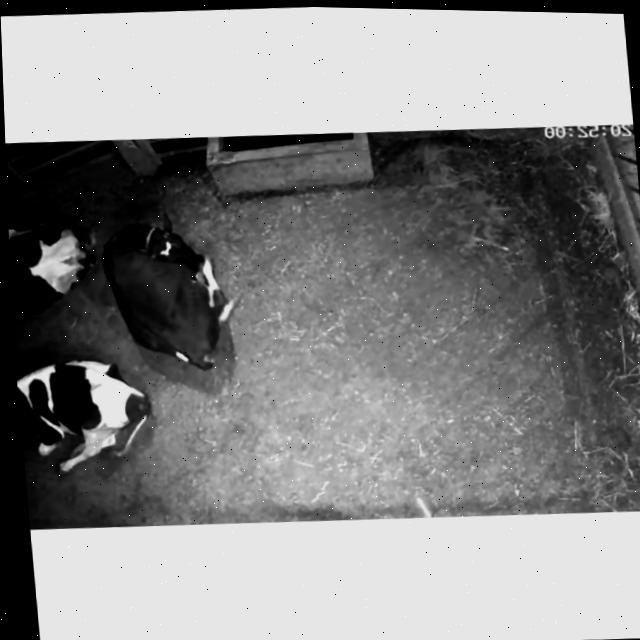lay: (80, 199, 251, 385), (14, 343, 156, 492), (7, 200, 89, 332)
